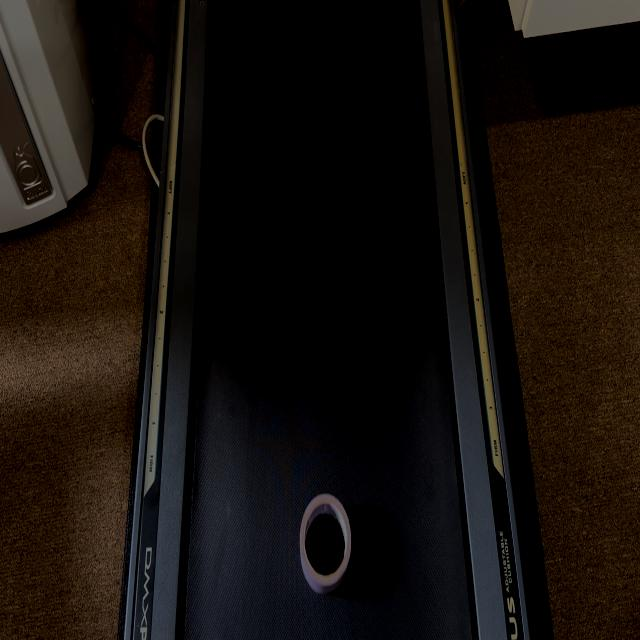Trash: (298, 494, 352, 596)
